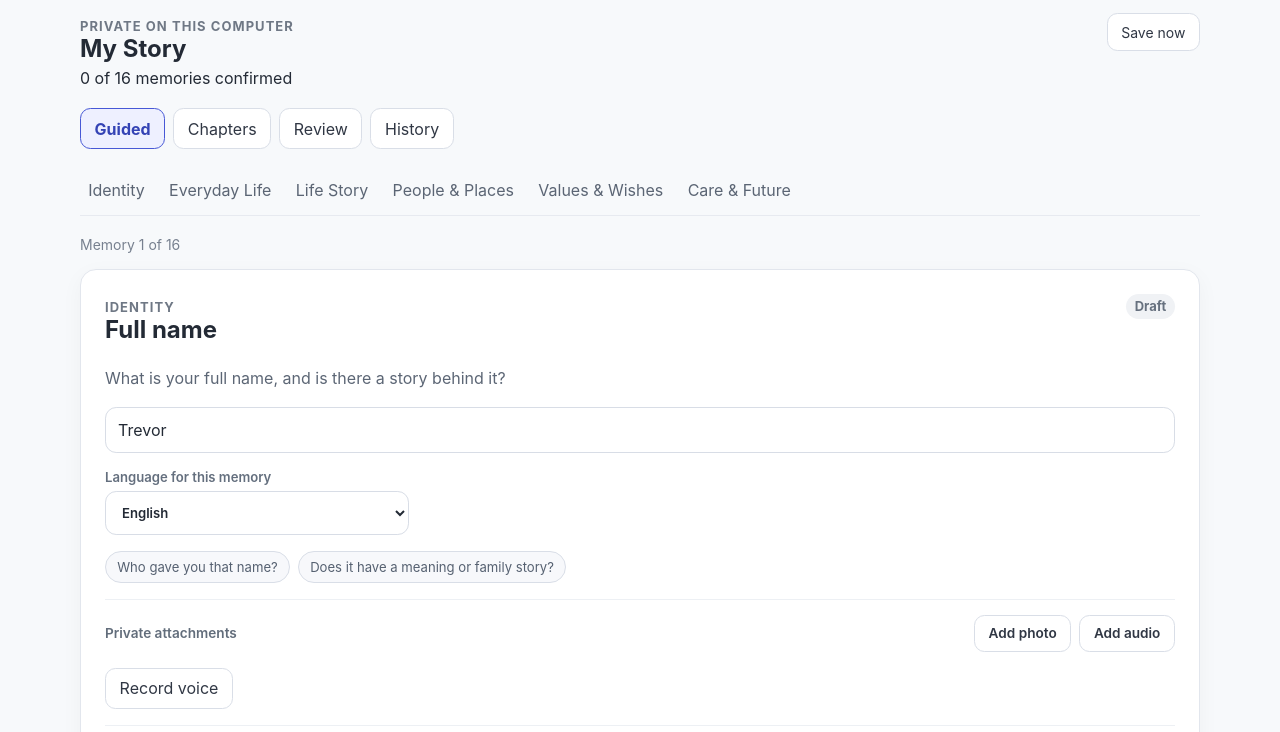
Test: MyStory › shows saving/saved state, supports Save now, and never exposes a raw persistence error
Replace the text in the field named "Full name" with "Changed": (640, 430) [105,406,1175,452]
Wait 600 ms
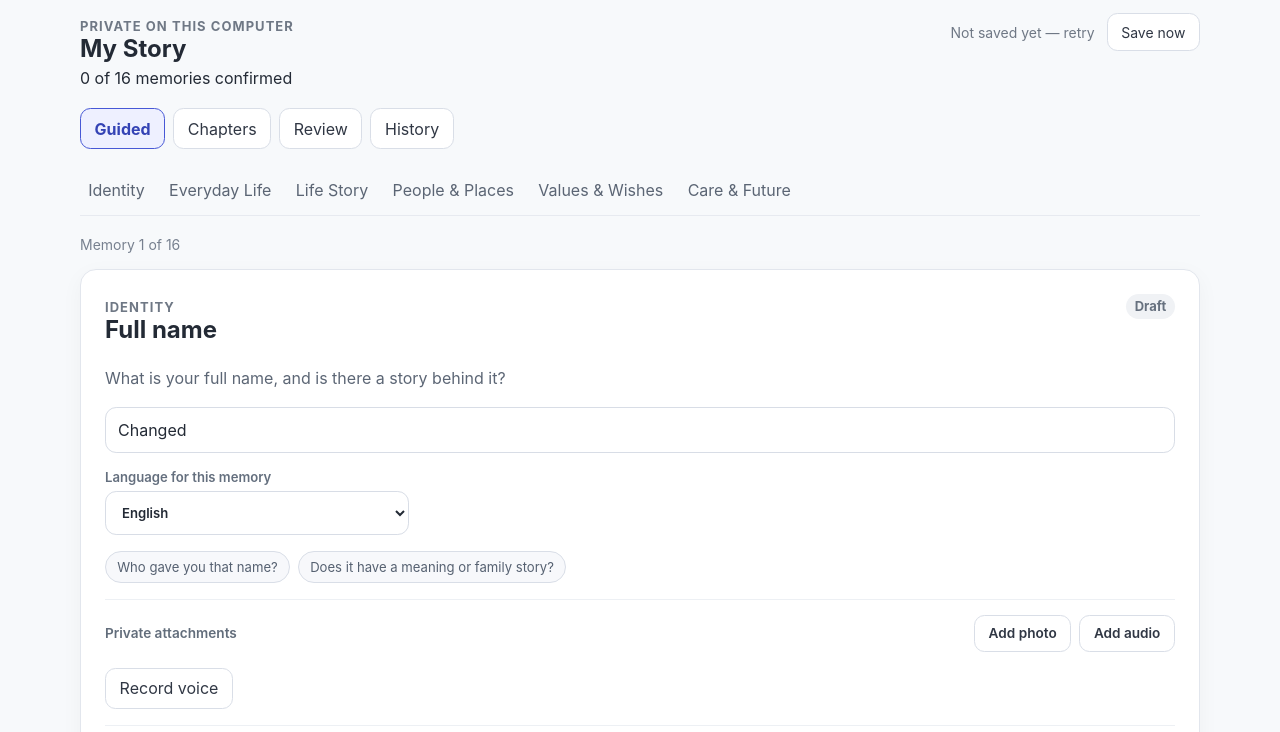
Now the text "Not saved yet — retry" is shown, box [950,24,1095,40]
Click the button "Save now": (1153, 32) [1107,13,1200,51]
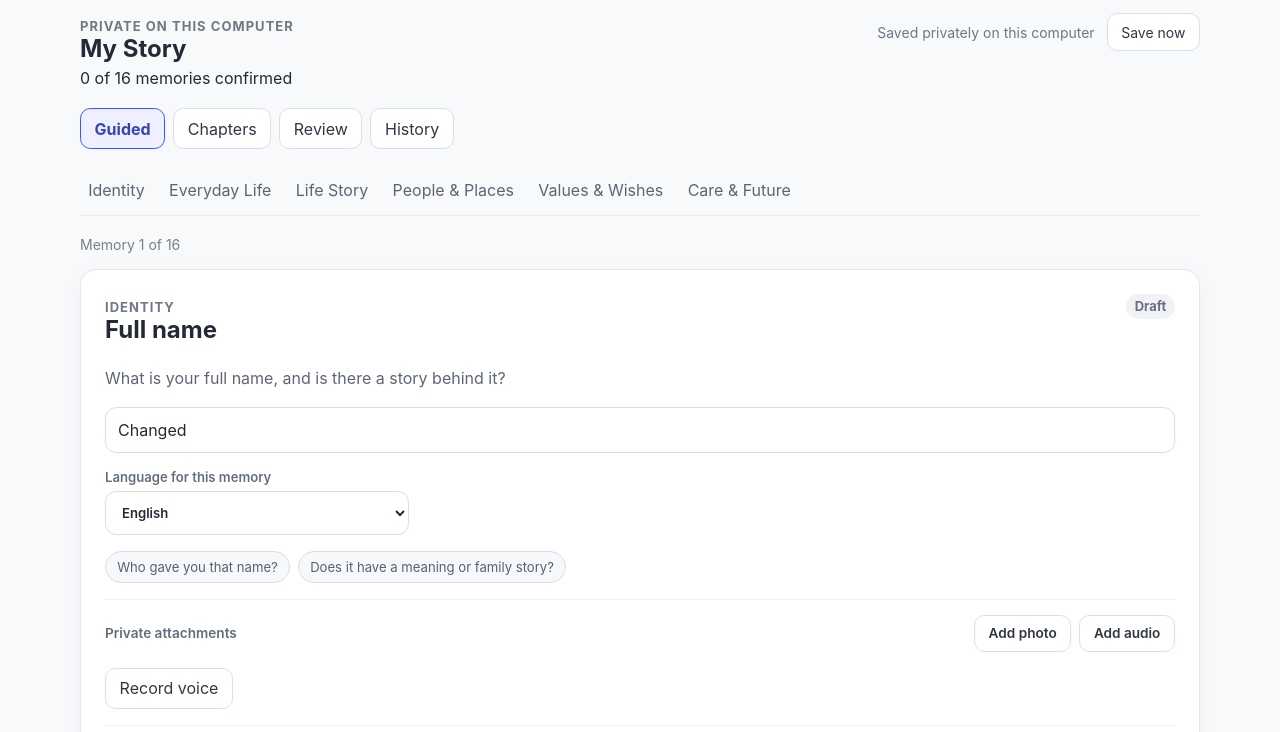
Now the text "Saved privately on this computer" is shown, box [877,24,1095,40]
